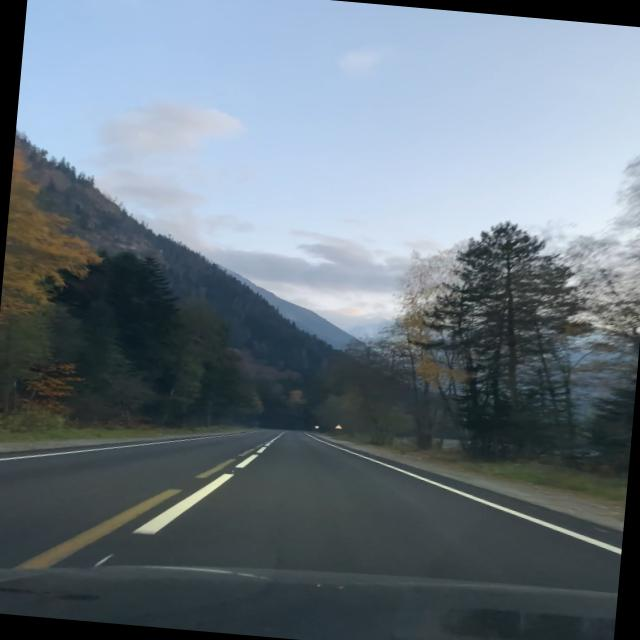asphalt: (0, 429, 623, 593)
